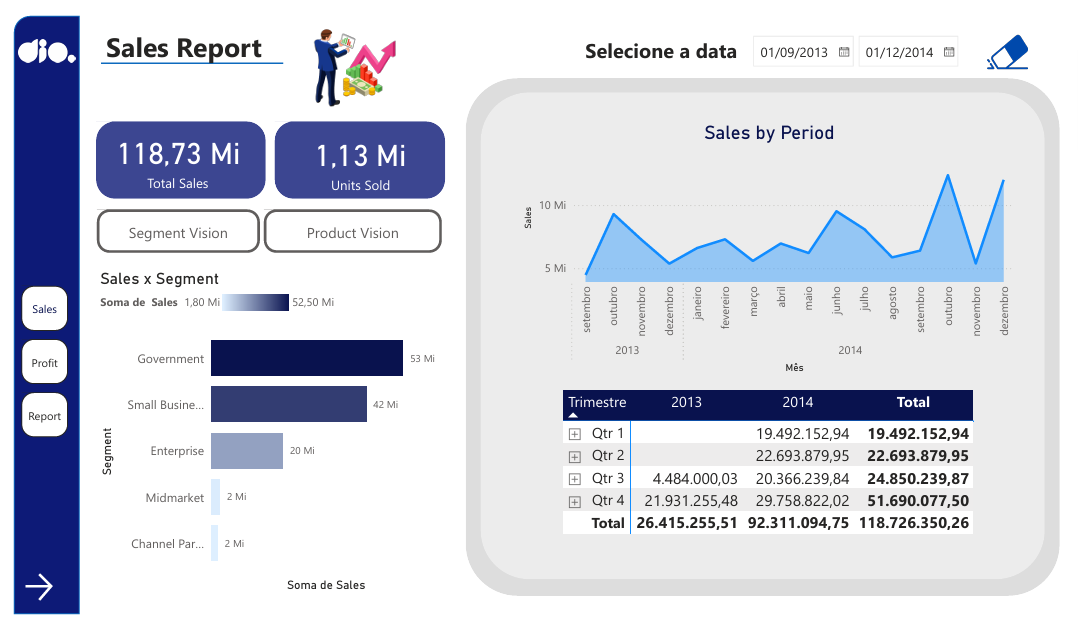

What the dashboard file says about the page in this screenshot:
{"tool":"powerbi","page":{"name":"Sales","canvas":[1280,720],"ordinal":0},"visuals":[{"type":"shape","box":[105.1,44.6,218.9,24.5],"z":0,"group":"g5"},{"type":"shape","box":[544.3,74.9,714.2,623.5],"z":0},{"type":"shape","box":[99.4,126.7,203.8,92.5],"z":0,"group":"g1"},{"type":"shape","box":[0,0,79.2,720],"z":1000},{"type":"textbox","box":[106.5,8.6,217.4,54.7],"z":1000,"group":"g5"},{"type":"textbox","box":[682.6,20.2,194.4,49],"z":1000,"group":"g2"},{"type":"shape","box":[314.4,126.7,205.4,92.5],"z":1000,"group":"g1"},{"type":"clusteredBarChart","title":"Sales x Product","fields":{"Y":["Sum(financials. Sales)"],"Category":["financials.Product"]},"box":[99.4,304.9,420.3,395.1],"z":1500,"group":"g4"},{"type":"slicer","fields":{"Values":["financials.Date"]},"box":[877,14.4,272.2,59],"z":2000,"group":"g2"},{"type":"shape","box":[561.6,92.2,679.7,586.1],"z":2000},{"type":"clusteredBarChart","title":"Sales x Segment","fields":{"Y":["Sum(financials. Sales)"],"Category":["financials.Segment"]},"box":[99.6,304.9,420.3,393.6],"z":2000,"group":"g4"},{"type":"image","title":"Logo_Dio","box":[0,8.6,79.2,66.2],"z":3000},{"type":"actionButton","title":"Botão - Produto","box":[301.3,233.3,214.4,52.2],"z":3000,"group":"g4"},{"type":"image","title":"Clean","box":[1149.2,14.4,92.2,59],"z":3500,"group":"g2"},{"type":"actionButton","box":[1163.6,14.4,69.1,59],"z":4000,"group":"g2"},{"type":"group","id":"g1","title":"Cartões","box":[99.4,126.7,420.5,95],"z":4000},{"type":"actionButton","title":"Botão - Segmento","box":[100.3,233.3,196.1,52.2],"z":4000,"group":"g4"},{"type":"areaChart","title":"Sales by Period","fields":{"Category":["financials.Date.Variation.Hierarquia de datas.Ano","financials.Date.Variation.Hierarquia de datas.Mês"],"Y":["Sum(financials. Sales)"]},"box":[609.1,126.7,600.5,308.2],"z":5000},{"type":"image","box":[328.3,10.1,191.5,105.1],"z":6000},{"type":"group","id":"g2","title":"Filtro por data","box":[682.6,14.4,558.7,59],"z":7000},{"type":"card","fields":{"Values":["Sum(financials.Units Sold)"]},"box":[339.3,127.4,156.8,93.8],"z":8000,"group":"g1"},{"type":"group","id":"g3","title":"Sales x Country","box":[868.3,477.2,372.9,231.3],"z":8000},{"type":"card","fields":{"Values":["Sum(financials. Sales)"]},"box":[114.9,131.1,166.3,84.1],"z":9000,"group":"g1"},{"type":"group","id":"g4","title":"Sales x Segment","box":[99.4,233.3,420.5,466.6],"z":9000},{"type":"group","id":"g5","title":"Title Report","box":[105.1,8.6,218.9,60.5],"z":10000},{"type":"actionButton","title":"Botão - Seta","box":[8.2,666.4,56.1,42.9],"z":11000},{"type":"pivotTable","fields":{"Values":["Sum(financials. Sales)"],"Rows":["financials.Date.Variation.Hierarquia de datas.Trimestre","financials.Date.Variation.Hierarquia de datas.Mês"],"Columns":["financials.Date.Variation.Hierarquia de datas.Ano"]},"box":[656.6,446.4,553,201.6],"z":12000},{"type":"pageNavigator","box":[8.6,325.4,56.2,181.4],"z":13000}]}

Visuals, with their boxes on the page's 1280x720 design canvas (x1, y1, x2, y2). These are canvas units, not pixel positions in the 1084x631 screenshot, which may show the page scaled, cropped or inside an application window:
shape: BBox(105, 45, 324, 69)
shape: BBox(544, 75, 1258, 698)
shape: BBox(99, 127, 303, 219)
shape: BBox(0, 0, 79, 720)
textbox: BBox(106, 9, 324, 63)
textbox: BBox(683, 20, 877, 69)
shape: BBox(314, 127, 520, 219)
"Sales x Product" clusteredBarChart: BBox(99, 305, 520, 700)
slicer - financials.Date: BBox(877, 14, 1149, 73)
shape: BBox(562, 92, 1241, 678)
"Sales x Segment" clusteredBarChart: BBox(100, 305, 520, 698)
"Logo_Dio" image: BBox(0, 9, 79, 75)
"Botão - Produto" actionButton: BBox(301, 233, 516, 286)
"Clean" image: BBox(1149, 14, 1241, 73)
actionButton: BBox(1164, 14, 1233, 73)
"Cartões" group: BBox(99, 127, 520, 222)
"Botão - Segmento" actionButton: BBox(100, 233, 296, 286)
"Sales by Period" areaChart: BBox(609, 127, 1210, 435)
image: BBox(328, 10, 520, 115)
"Filtro por data" group: BBox(683, 14, 1241, 73)
card - Sum(financials.Units Sold): BBox(339, 127, 496, 221)
"Sales x Country" group: BBox(868, 477, 1241, 708)
card - Sum(financials. Sales): BBox(115, 131, 281, 215)
"Sales x Segment" group: BBox(99, 233, 520, 700)
"Title Report" group: BBox(105, 9, 324, 69)
"Botão - Seta" actionButton: BBox(8, 666, 64, 709)
pivotTable - Sum(financials. Sales) x financials.Date.Variation.Hierarquia de datas.Trimestre: BBox(657, 446, 1210, 648)
pageNavigator: BBox(9, 325, 65, 507)
